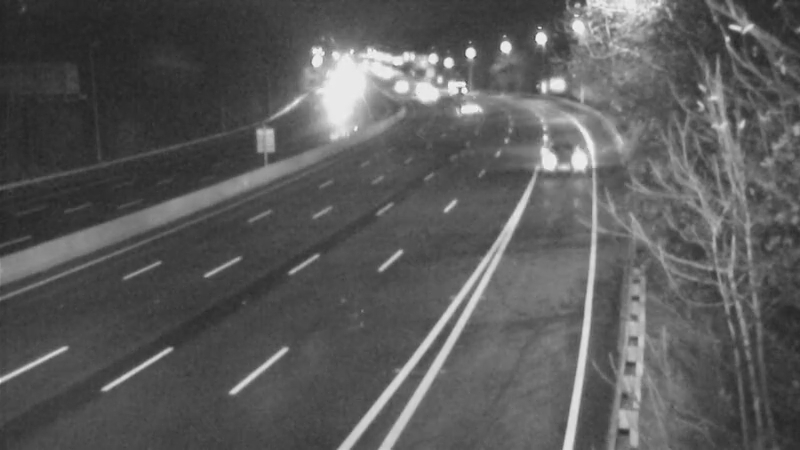vehicle: (513, 120, 593, 200), (429, 58, 479, 108), (373, 60, 423, 110), (394, 61, 444, 111), (399, 67, 449, 117), (439, 82, 489, 132), (309, 74, 359, 124)
